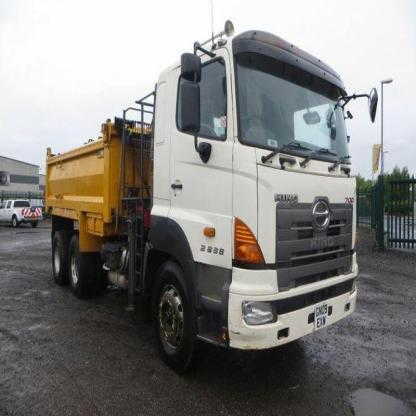dump_truck: (33, 13, 372, 379)
